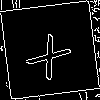X: (25, 25, 79, 82)
